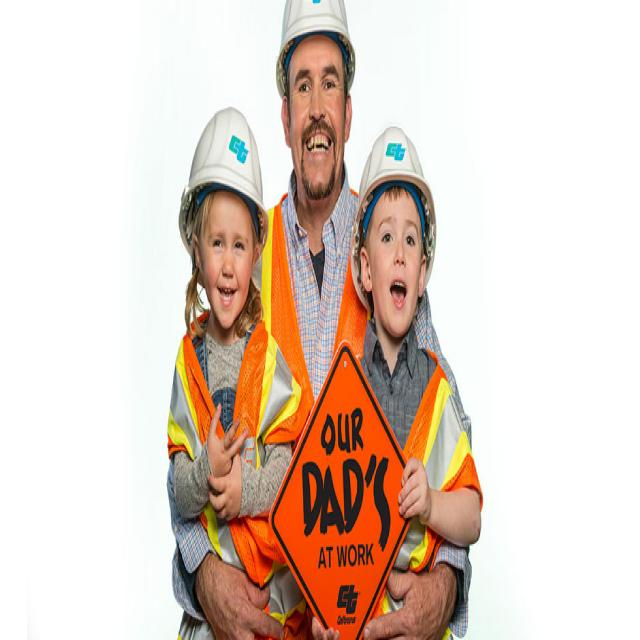Reflective-Jacket: (342, 341, 476, 614), (169, 312, 287, 574)
Safety-Helmet: (179, 95, 269, 232), (355, 112, 439, 232), (273, 0, 361, 85)
